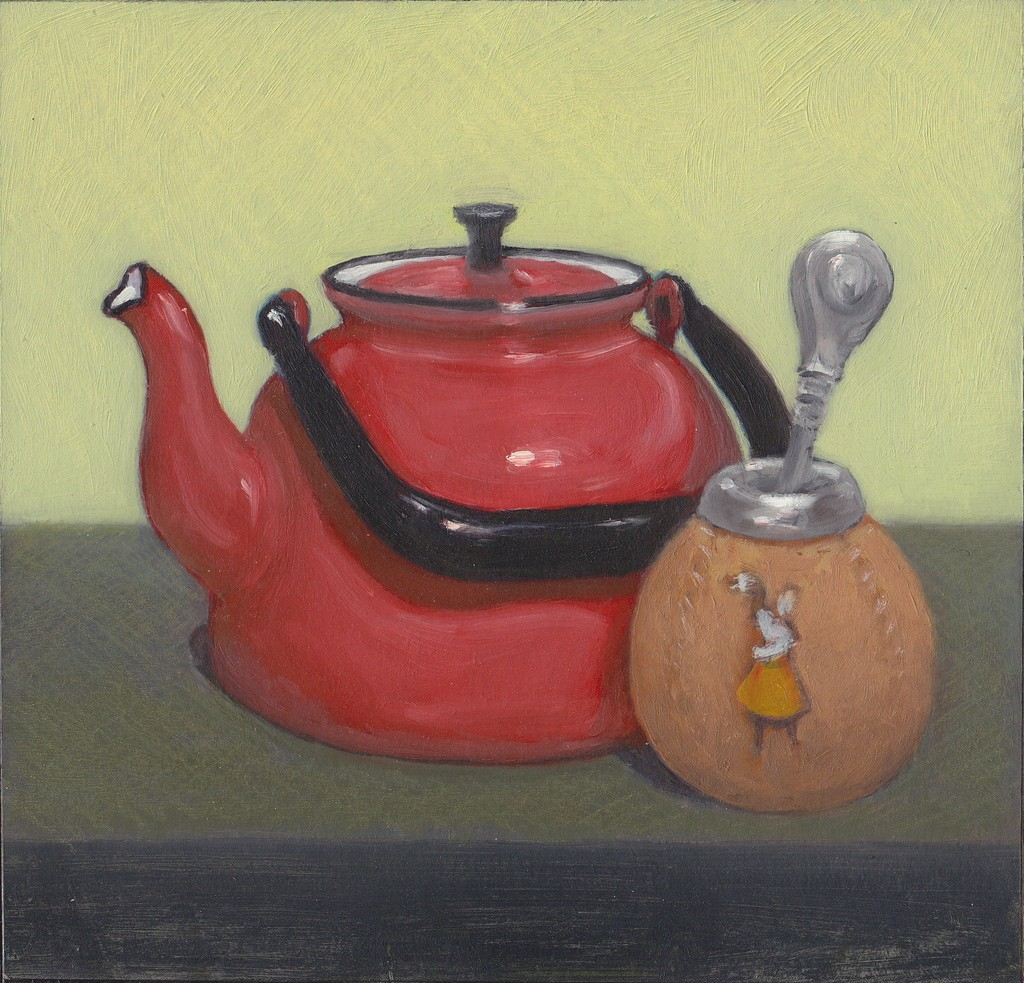teapot: (99, 199, 794, 769)
